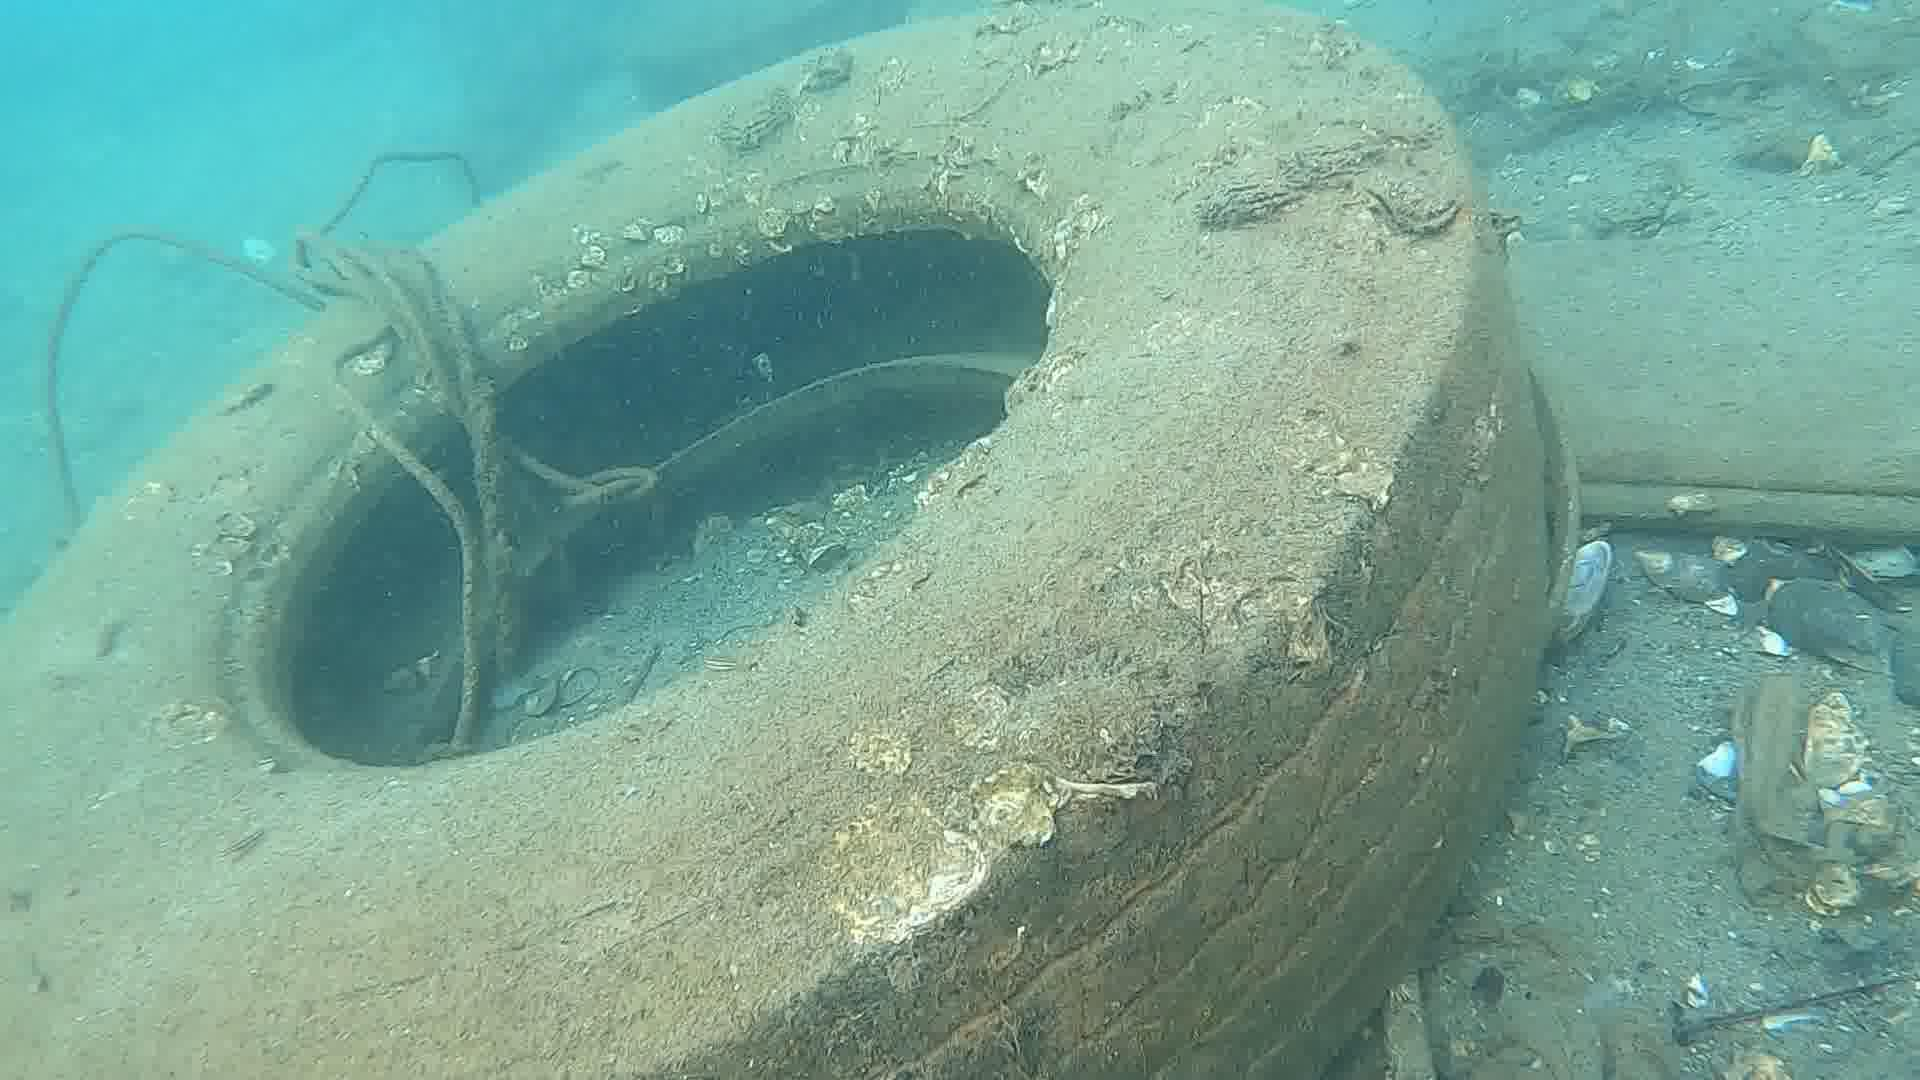bundle of ropes: (286, 149, 659, 748)
rope: (44, 228, 328, 545)
tire: (0, 0, 1549, 1080)
